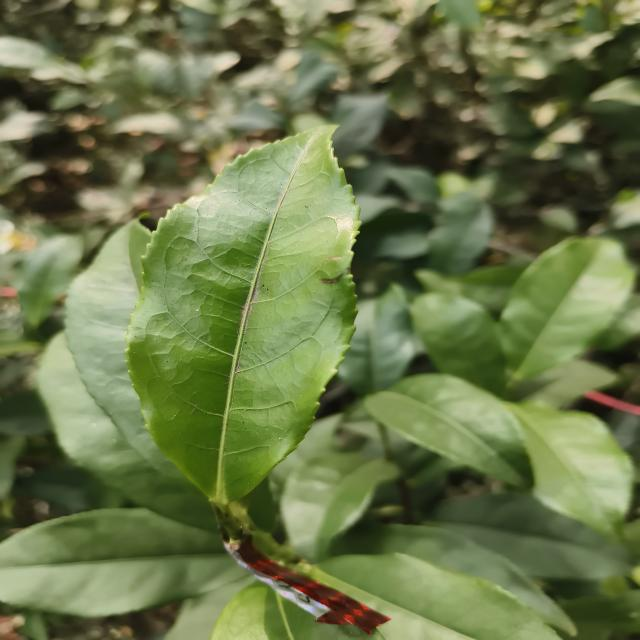Leaf: (126, 125, 359, 504), (37, 333, 216, 531), (66, 221, 192, 489), (0, 508, 242, 617), (332, 524, 572, 630), (312, 553, 559, 640), (500, 238, 634, 383), (364, 373, 532, 488), (427, 493, 630, 580), (507, 403, 634, 542), (281, 452, 399, 563), (411, 293, 506, 395), (338, 284, 422, 396), (211, 581, 369, 640), (16, 234, 83, 328), (429, 205, 493, 274), (331, 93, 387, 160), (386, 166, 439, 204), (228, 100, 285, 131), (0, 36, 52, 69), (372, 229, 429, 259)
